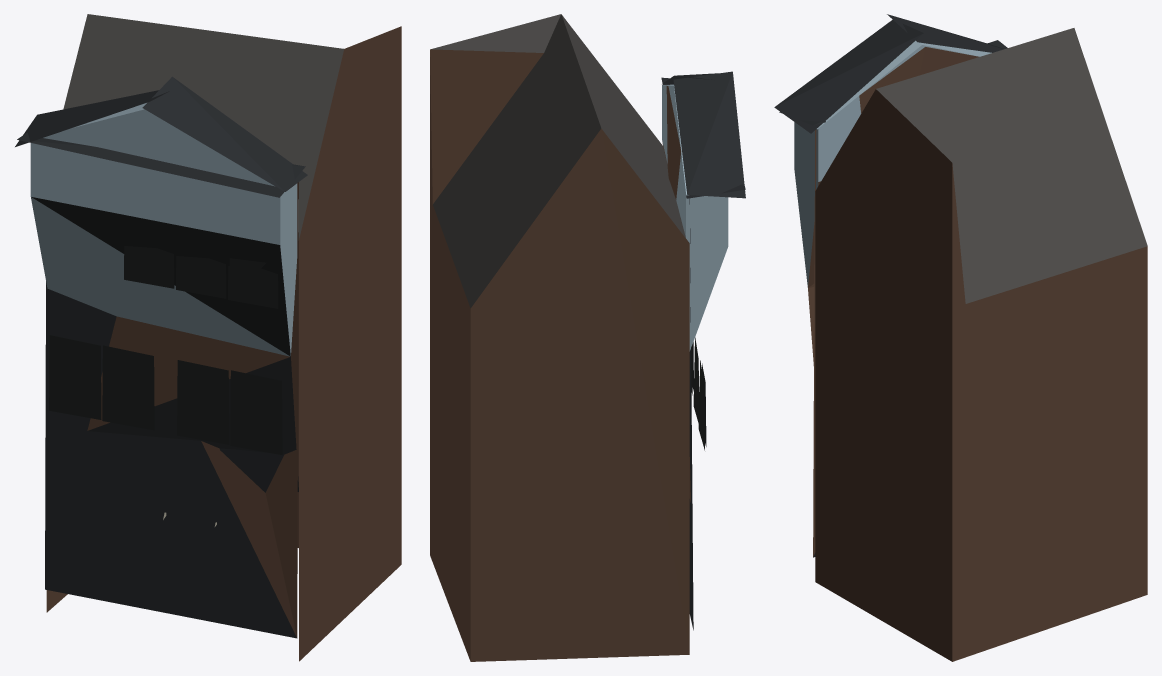
Rendered from in-t-aepjen.lod2.glb.
3 renders of one model, left to right at view 1: azimuth 30°, elevation 25°; view 2: azimuth 150°, elevation 25°; view 3: azimuth 270°, elevation 25°, orthographic. The views are drawn at different scales.
Visible parts, largest first — view 1: lod2; view 2: lod2; view 3: lod2.
Part boxes in pixels (left/top/right/bottom): lod2: left=15, top=14, right=401, bottom=661; lod2: left=430, top=14, right=745, bottom=661; lod2: left=774, top=14, right=1147, bottom=661.
Size of the model in its own units: 10.59 by 15.95 by 10.22.
